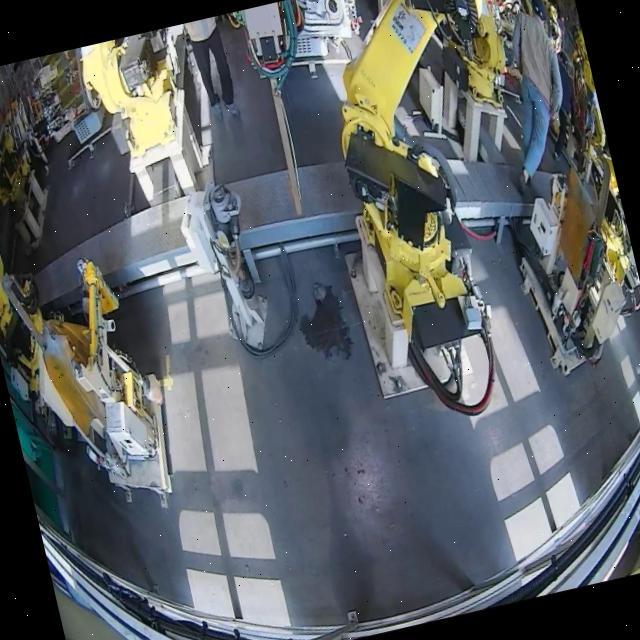Person: (477, 0, 586, 192), (177, 15, 243, 126)
